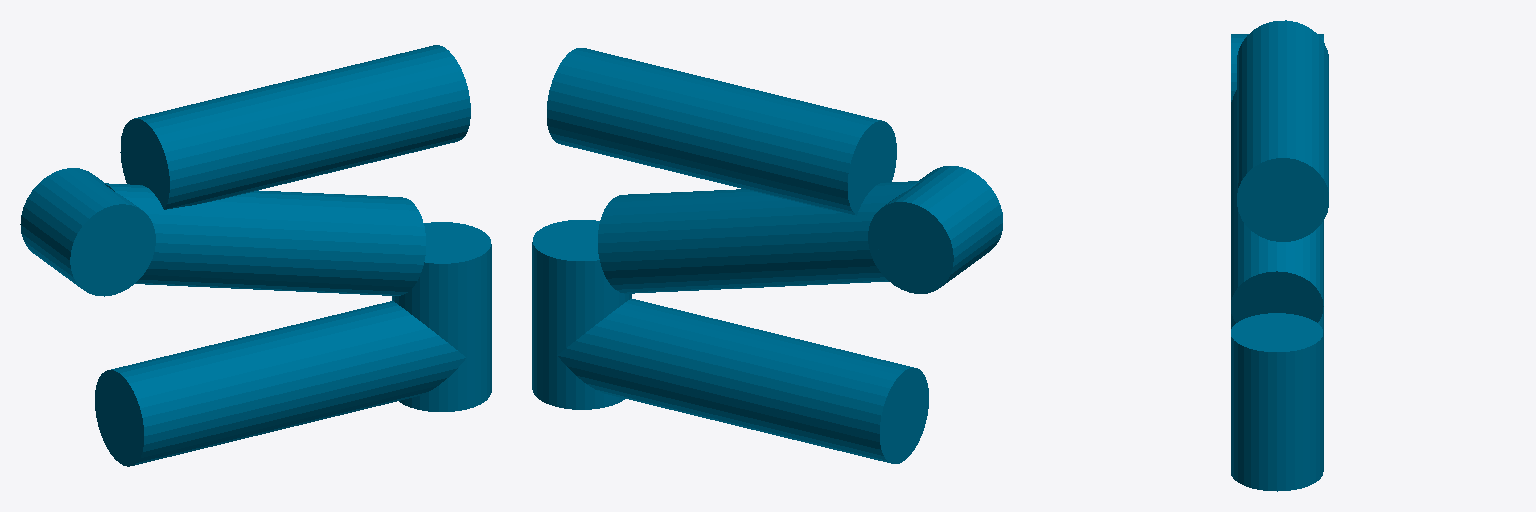
URDF robot description (reach5mini):
<?xml version="1.0" encoding="utf-8"?>
<!-- =================================================================================== -->
<!-- |    This document was autogenerated by xacro from test_reach5mini.urdf.xacro     | -->
<!-- |    EDITING THIS FILE BY HAND IS NOT RECOMMENDED                                 | -->
<!-- |    Unless you're [author] or [author]  -->
<!-- =================================================================================== -->
<!-- when doing STL -> OBJ conversion, use this to keep origins: https://blender.stackexchange.com/questions/26451/how-to-move-a-complex-object-to-the-origin-without-destroying-it -->
<robot name="reach5mini">
  <material name="alpha_black">
    <color rgba="0.3 0.3 0.3 1"/>
  </material>
  <material name="black">
    <color rgba="0 0 0 1"/>
  </material>
  <material name="ocean_blue">
    <color rgba="0 0.48 0.63 .5"/>
  </material>

  <link name="base_link">
    <!-- <visual> -->
      <!-- <geometry>
        <box size="0.210 0.120 0.240"/>
      </geometry> -->
      <!-- <origin rpy="0 0 0" xyz="-0.105 0 0.120"/> -->
    <!-- </visual> -->
    <collision>
      <geometry>
        <box size="0.210 0.120 0.240"/>
      </geometry>
      <origin rpy="0 0 0" xyz="-0.105 0 0.120"/>
      <surface>
        <friction>
          <ode>
            <mu>0.1</mu>
            <mu2>0.1</mu2>
          </ode>
        </friction>
      </surface>
    </collision>
    <inertial>
      <mass value="5"/>
      <origin rpy="0 0 0" xyz="-0.105 0 0.120"/>
      <!-- <inertia ixx="0.001" ixy="0.00015" ixz="0.0001054" iyy="0.000213" iyz="0.0001003" izz="0.0001067"/> -->
      <inertia ixx="0.1" ixy="0.0" ixz="0.0" iyy="0.1" iyz="0.0" izz="0.1"/>
    </inertial>
  </link>
  <reach5mini_gazebo name="r5m"/>
  <!-- camera body, with origin at bottom screw mount -->
  <joint name="r5m_joint" type="fixed">
    <origin rpy="0 0 0" xyz="0 0 0"/>
    <parent link="base_link"/>
    <child link="r5m_base_link"/>
  </joint>
  <link name="r5m_base_link">
    <visual>
      <geometry>
        <!-- <mesh filename="[local-path]/Stuff/coupledDynamics/meshes/archived_meshes/Base3.obj"/> -->
        <cylinder length="0.150" radius="0.020"/>
      </geometry>
      <!-- <origin rpy="1.57075 0 0" xyz="0 0 0"/> -->
      <origin rpy="0 1.57075 0" xyz="-0.075 0 0"/>
      <!-- <origin rpy="0 0 0" xyz="0 0 0"/> -->
      <material name="ocean_blue"/>
    </visual>
    <collision>
      <geometry>
        <cylinder length="0.150" radius="0.020"/>
      </geometry>
      <origin rpy="0 1.57075 0" xyz="-0.075 0 0"/>
    </collision>
    <inertial>
      <mass value="0.189"/> <!-- Added mass of link (biggest value)-->
      <origin xyz="-0.075 -0.006 -0.003"/>
      <inertia ixx="0.0000" ixy="0.000" ixz="0.000" iyy=".001414" iyz="0.00000" izz="0.001414"/>
    </inertial>
  </link>
  <joint name="r5m_joint5" type="revolute">
    <parent link="r5m_base_link"/>
    <child link="r5m_shoulder_link"/>
    <origin rpy="0 0 3.141592" xyz="0 0 0"/>
    <axis xyz="0 0 1"/>
    <limit effort="9.0" lower="0.0" upper="6.2" velocity="0.5"/>
  </joint>
  <link name="r5m_shoulder_link">
    <visual>
      <geometry>
        <!-- <mesh filename="[local-path]/Stuff/coupledDynamics/meshes/archived_meshes/ShoulderJoint3.obj"/> -->
        <cylinder length="0.066" radius="0.020"/>
      </geometry>
      <material name="ocean_blue"/>
      <!-- <origin rpy="0 3.1415 -1.57075" xyz="0 0 0"/> NOT THIS ONE-->
      <!-- <origin rpy="-1.57075 3.1415 1.57075" xyz="0 0 0"/> -->
      <origin rpy="0 0 0" xyz="0 0 0.010"/>
    </visual>
    <collision>
      <geometry>
        <cylinder length="0.066" radius="0.020"/>
      </geometry>
      <origin rpy="0 0 0" xyz="0 0 0.010"/>
    </collision>
    <inertial>
      <!-- added mass (largest value) -->
      <mass value="0.032"/>
      <origin xyz="0.005 -0.001 0.016"/>
      <inertia ixx="0.000007" ixy="0.0" ixz="0.0" iyy="0.000007" iyz="0.0" izz="0.0"/>
    </inertial>
  </link>
  <joint name="r5m_joint4" type="revolute">
    <parent link="r5m_shoulder_link"/>
    <child link="r5m_upper_arm_link"/>
    <!-- <origin rpy="1.57075 1.3 0" xyz="0.020 0 0.046"/> -->
    <origin rpy="1.57075 -0.27079 0" xyz="0.020 0 0.046"/>
    <axis xyz="0 0 1"/>
    <limit effort="9.0" lower="0.0" upper="3.5" velocity="0.5"/>
  </joint>
  <link name="r5m_upper_arm_link">
    <visual>
      <geometry>
        <!-- <mesh filename="[local-path]/Stuff/coupledDynamics/meshes/archived_meshes/UpperArm3.obj"/> -->
        <cylinder length="0.145" radius="0.020"/>
      </geometry>
      <!-- <origin rpy="0 -1.57075 -0.2655555" xyz="0 0 -0.075"/> NOT THIS ONE-->
      <!-- <origin rpy="0 -1.57075 1.305240" xyz="0 0 -0.075"/> -->
      <origin rpy="0 1.5708 0 " xyz=".0725 0 0"/>
      <material name="ocean_blue"/>
    </visual>
    <collision>
      <geometry>
        <cylinder length="0.145" radius="0.020"/>
      </geometry>
      <origin rpy="0 1.57075 -0.27075" xyz="0.075 0 0"/>
    </collision>
    <collision>
      <geometry>
        <cylinder length="0.040" radius="0.020"/>
      </geometry>
      <origin rpy="0 0 0" xyz="0 0 0"/>
    </collision>
    <inertial>
      <mass value="0.201"/>
      <origin xyz="0.073 0.0 0.0"/>
      <inertia ixx="0.0" ixy="0.0" ixz="0.0" iyy="0.001716" iyz="0.0" izz="0.001716"/>
    </inertial>
  </link>
  <joint name="r5m_joint3" type="revolute">
    <parent link="r5m_upper_arm_link"/>
    <child link="r5m_forearm_link"/>
    <origin rpy="3.1415 0 1.3" xyz="0.15 0 0"/>
    <axis xyz="0 0 1"/>
    <limit effort="9.0" lower="0.0" upper="3.5" velocity="0.5"/>
  </joint>
  <link name="r5m_forearm_link">
    <visual>
      <geometry>
        <!-- <mesh filename="[local-path]/Stuff/coupledDynamics/meshes/archived_meshes/ElbowJoint3.obj"/> -->
        <cylinder length="0.040" radius="0.020"/>
      </geometry>
      <!-- <origin rpy="1.57075 0 0" xyz="0 0 0"/> -->
      <origin rpy="0 0 0" xyz="0 0 0"/>/>
      <material name="ocean_blue"/>
    </visual>
    <collision>
      <geometry>
        <cylinder length="0.040" radius="0.020"/>
      </geometry>
      <origin rpy="0 0 0" xyz="0 0 0"/>
    </collision>
    <inertial>
    <!-- Added mass of forearm (elbow) (largest value) -->
      <mass value="0.032"/>
      <origin xyz="0.017 -0.026 -0.002"/>
      <inertia ixx="0.000007" ixy="0.0" ixz="0.0" iyy="0.0" iyz="0.0" izz="0.000007"/>
    </inertial>
  </link>
  <joint name="r5m_joint2" type="revolute">
    <parent link="r5m_forearm_link"/>
    <child link="r5m_wrist_link"/>
    <origin rpy="-1.57075 -0.5 0" xyz="0.020 0 0"/>
    <axis xyz="0 0 1"/>
    <limit effort="5.0" lower="0.0" upper="6.0" velocity="1.0"/>
  </joint>
  <link name="r5m_wrist_link">
    <visual>
      <geometry>
        <!-- <mesh filename="[local-path]/Stuff/coupledDynamics/meshes/archived_meshes/Wrist3.obj"/> -->
        <cylinder length="0.140" radius="0.020"/>
      </geometry>
      <origin xyz="0.0 0.003 -0.098"/>
      <!-- <origin rpy="1.57075 0 0" xyz="0 0 0"/> -->
      <material name="ocean_blue"/>
    </visual>
    <collision>
      <geometry>
        <cylinder length="0.140" radius="0.020"/>
      </geometry>
      <origin rpy="0 0 0" xyz="0 0 -0.070"/>
    </collision>
    <inertial>
      <!-- Added mass (largest value) -->
      <mass value="0.226"/>
      <origin xyz="0.0 0.003 -0.098"/>
      <inertia ixx="0.002443" ixy="0.0" ixz="0.0" iyy="0.002443" iyz="0.0" izz="0.0"/>
    </inertial>
  </link>
  <link name="r5m_jaw1">
    <visual>
      <geometry>
        <!-- <mesh filename="[local-path]/Stuff/coupledDynamics/meshes/archived_meshes/Jaw1_v2.obj"/> -->
        <mesh filename="[local-path]/coupledDynamics-Drake/meshes/archived_meshes/Jaw1_v2.obj"/>
      </geometry>
      <origin rpy="1.57075 0 0" xyz="0 0 0"/>
      <material name="ocean_blue"/>
    </visual>
    <collision>
      <geometry>
        <box size="0.03 0.09 0.01"/>
      </geometry>
      <origin rpy="0 0 0" xyz="-0.01 -0.045 0"/>
    </collision>
    <!-- TODO: GET APPROPOATE MASSES (this is 50g ball at end) -->
    <inertial>
      <mass value="0.05"/>
      <origin xyz="-.01 -0.045 0.0"/>
      <inertia ixx="0.000010" ixy="0.0" ixz="0.0" iyy="0.000010" iyz="0.0" izz="0.000010"/>
    </inertial>
  </link>
  <link name="r5m_jaw2">
    <visual>
      <geometry>
        <!-- <mesh filename="[local-path]/Stuff/coupledDynamics/meshes/archived_meshes/Jaw2_v2.obj"/> -->
        <mesh filename="[local-path]/coupledDynamics-Drake/meshes/archived_meshes/Jaw2_v2.obj"/>
      </geometry>
      <origin rpy="1.57075 0 0" xyz="0 0 0"/>
      <material name="ocean_blue"/>
    </visual>
    <collision>
      <geometry>
        <box size="0.03 0.09 0.01"/>
      </geometry>
      <origin rpy="0 0 0" xyz="0.01 -0.045 0"/>
    </collision>
    <!-- TODO: GET APPROPOATE MASSES -(this is 50g ball at end)  -->
    <inertial>
      <mass value="0.05"/>
      <origin xyz="0.01 -0.045 0.0"/>
      <inertia ixx="0.000010" ixy="0.0" ixz="0.0" iyy="0.000010" iyz="0.0" izz="0.000010"/>
    </inertial>
  </link>
  <joint name="r5m_joint1_1" type="fixed">
    <parent link="r5m_wrist_link"/>
    <child link="r5m_jaw2"/>
    <origin rpy="1.57075 0 0" xyz="-0.015 0 -0.140"/>
    <axis xyz="0 0 -1"/>
    <limit effort="5.0" lower="0.0" upper="0.5" velocity="0.5"/>
  </joint>
  <joint name="r5m_joint1_2" type="fixed">
    <parent link="r5m_wrist_link"/>
    <child link="r5m_jaw1"/>
    <origin rpy="1.57075 0 0" xyz="0.015 0 -0.140"/>
    <axis xyz="0 0 1"/>
    <limit effort="5.0" lower="0.0" upper="0.5" velocity="0.5"/>
  </joint>  
  <link name="r5m_jaw"/>
  <joint name="r5m_joint_jaw" type="fixed">
    <parent link="r5m_wrist_link"/>
    <child link="r5m_jaw"/>
    <origin rpy="0 0 1.5707" xyz="0 0 -0.190"/>
  </joint>
</robot>

--- Facts derived from the render (not from the file) ---
Views: 3 orthographic renders of the robot side by side, from view 1: azimuth 30°, elevation 25°; view 2: azimuth 150°, elevation 25°; view 3: azimuth 270°, elevation 25°.
Model reach5mini with 9 links and 8 joints (4 revolute, 4 fixed), rooted at base_link, posed all joints at 0.
Visible links, largest first — view 1: r5m_base_link, r5m_wrist_link, r5m_upper_arm_link, r5m_forearm_link, r5m_shoulder_link; view 2: r5m_base_link, r5m_wrist_link, r5m_upper_arm_link, r5m_forearm_link, r5m_shoulder_link; view 3: r5m_wrist_link, r5m_shoulder_link, r5m_upper_arm_link.
Link boxes in pixels (bbox=[...]): r5m_base_link: bbox=[95, 301, 465, 466]; r5m_wrist_link: bbox=[120, 45, 470, 209]; r5m_upper_arm_link: bbox=[105, 183, 425, 295]; r5m_forearm_link: bbox=[20, 168, 155, 296]; r5m_shoulder_link: bbox=[392, 222, 491, 411]; r5m_base_link: bbox=[557, 298, 928, 463]; r5m_wrist_link: bbox=[547, 48, 896, 215]; r5m_upper_arm_link: bbox=[598, 181, 919, 293]; r5m_forearm_link: bbox=[868, 166, 1002, 293]; r5m_shoulder_link: bbox=[532, 220, 631, 409]; r5m_wrist_link: bbox=[1237, 20, 1328, 241]; r5m_shoulder_link: bbox=[1231, 313, 1323, 491]; r5m_upper_arm_link: bbox=[1231, 90, 1323, 322].
Bounding box of the posed robot: 0.2045 × 0.0426 × 0.1505 m (x, y, z).
Geometry: only primitive shapes (box / cylinder / sphere) drawn; not drawn: 2 mesh visuals (reference in a form the renderer does not follow).
